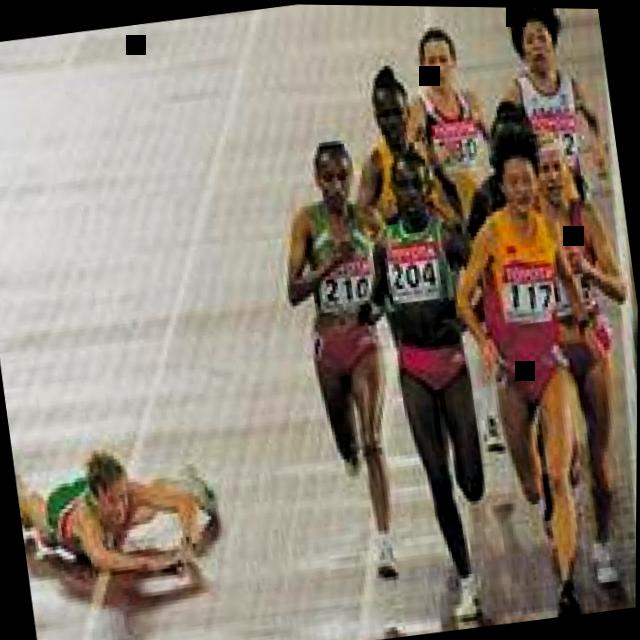Fall-Detected: (5, 376, 234, 598)
